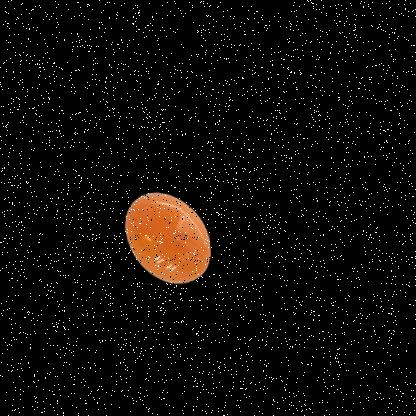welood: (86, 143, 239, 313)
